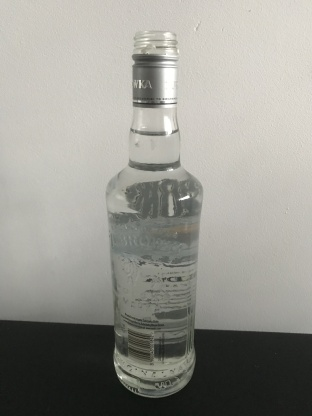nakretka: (129, 27, 180, 108)
